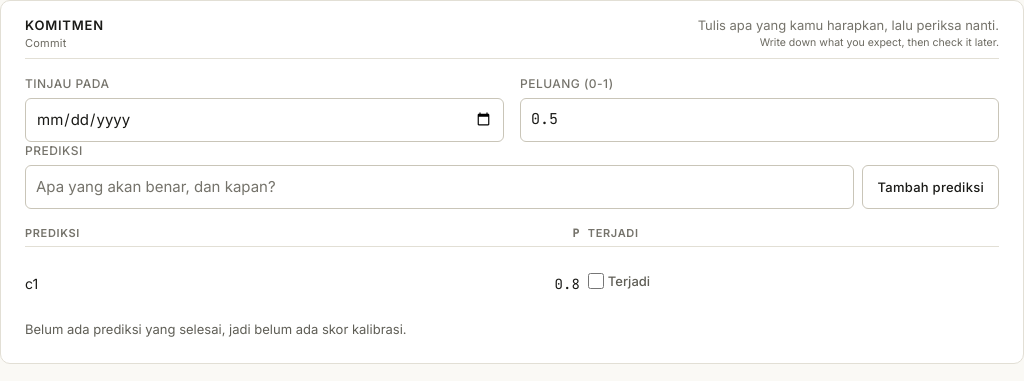
it: CommitPanel › computes a Brier score once an outcome is recorded
The width and height of the screenshot is (1024, 381).
Click the checkbox labelled "Terjadi".
click(596, 281)  # box left=588, top=273, right=604, bottom=289
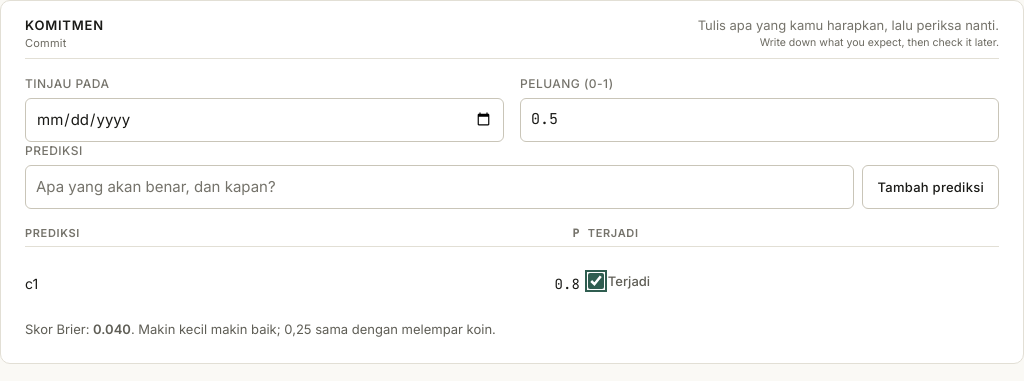
Now the text "0.040" is shown, box left=93, top=321, right=131, bottom=337
